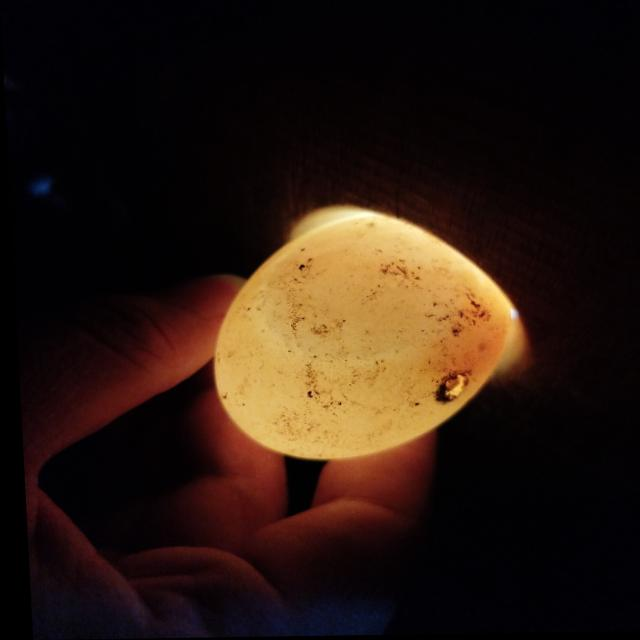Camara de Ar: (260, 254, 428, 363)
